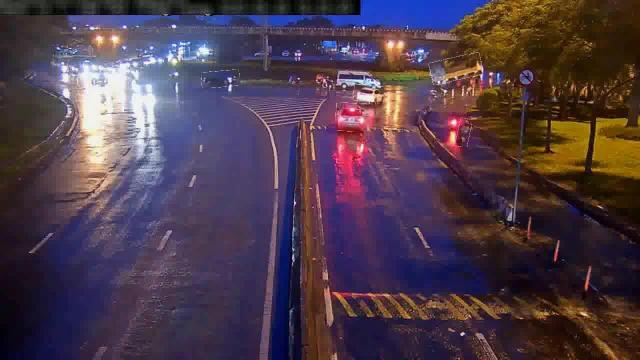Bike: (456, 118, 472, 148)
Car: (336, 103, 368, 132), (200, 70, 240, 88), (354, 86, 384, 102)
Truck: (430, 55, 482, 83)
